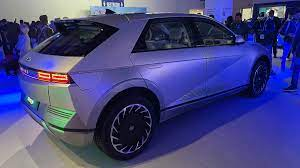Honda Ioniq: (16, 10, 275, 162)
